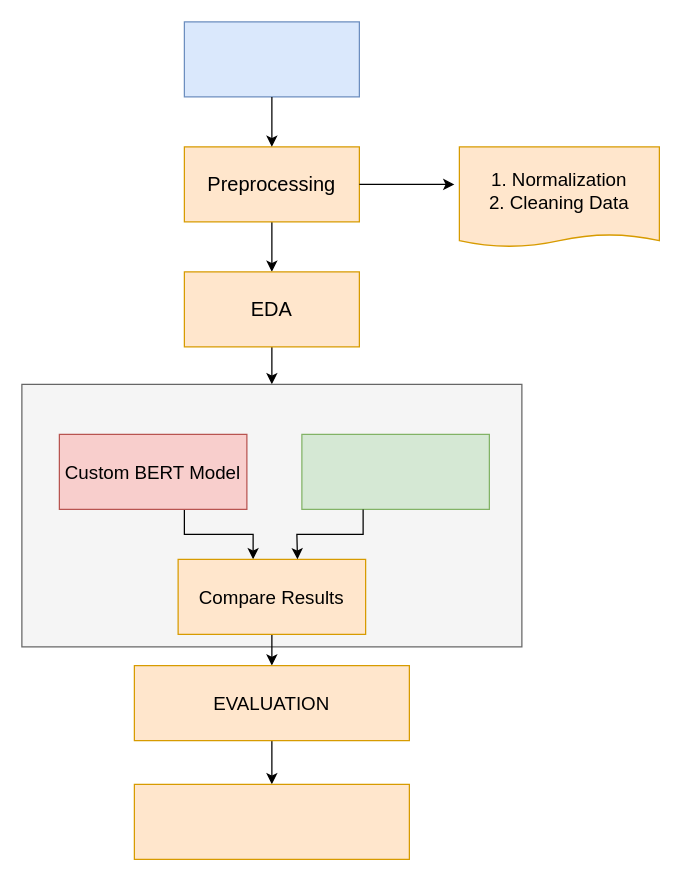
Some shapes in this 681 by 881 pixel diagram are drawn without their labels. Each missing label, with the centre of its shape:
DATASET: point (271, 59)
Other Study Models: point (395, 471)
VISUALIZATION: point (271, 821)
